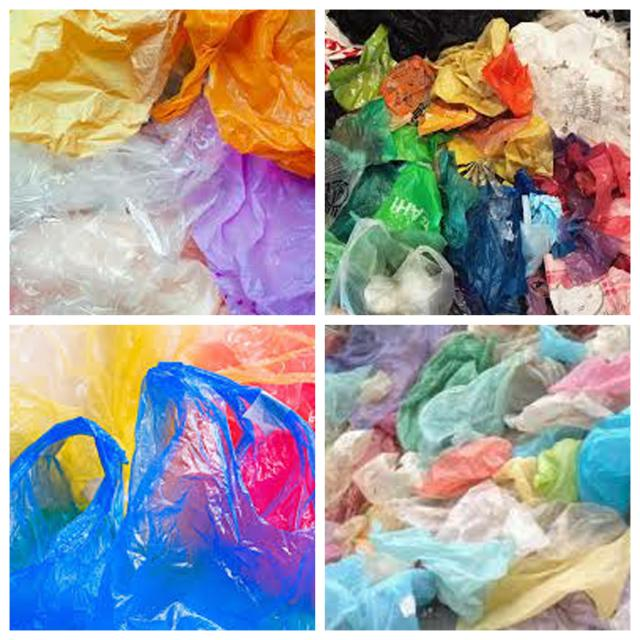Single-layer Plastic: (10, 362, 314, 630), (10, 99, 231, 314), (10, 325, 315, 458), (151, 10, 315, 178), (10, 10, 180, 158), (191, 149, 315, 315), (458, 530, 630, 630), (511, 10, 630, 154), (418, 352, 564, 455), (326, 325, 455, 433), (370, 529, 514, 617), (335, 219, 454, 314), (374, 125, 445, 249), (459, 185, 526, 314), (325, 554, 438, 630), (439, 480, 549, 558), (352, 452, 454, 531), (431, 19, 509, 116), (448, 114, 552, 182), (325, 429, 394, 522), (418, 436, 512, 499), (570, 142, 630, 238), (329, 25, 395, 111), (579, 409, 630, 519), (549, 354, 630, 412), (504, 392, 611, 432), (482, 40, 532, 118), (380, 55, 436, 116), (551, 178, 562, 198)
